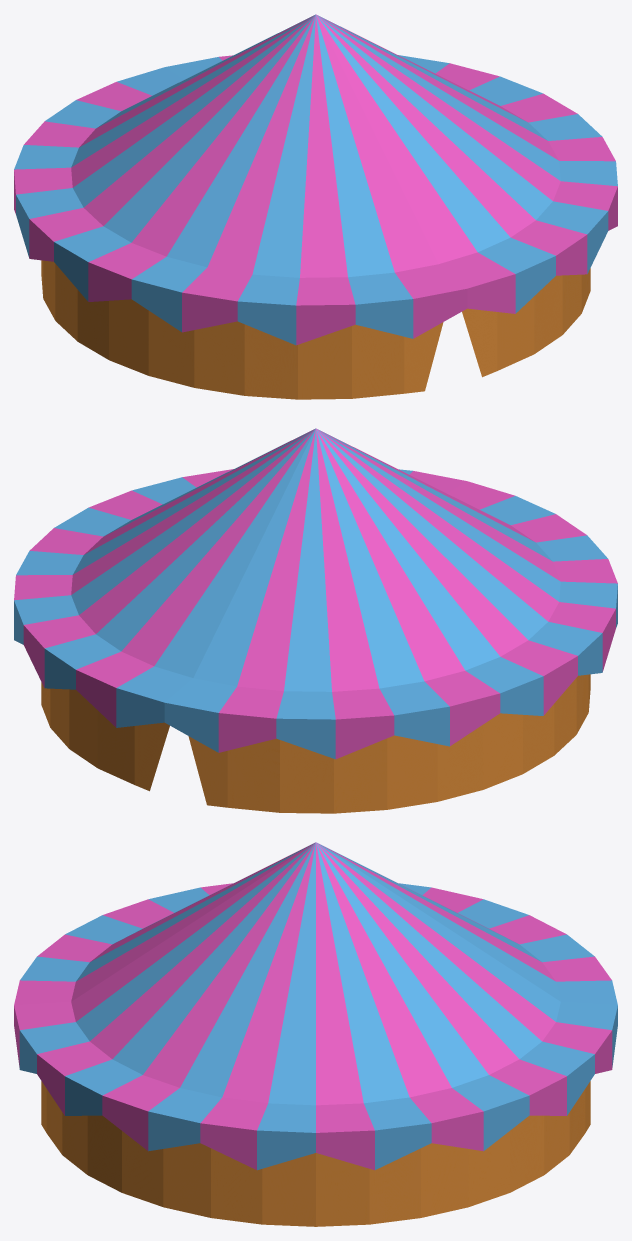
The model's file is giant circus tent.fbx.
3 views of the same model, one above another, from view 1: azimuth 30°, elevation 25°; view 2: azimuth 150°, elevation 25°; view 3: azimuth 270°, elevation 25° (orthographic).
Parts seen in each view (by area): view 1: giant circus tent roof, giant circus tent base-inside, giant circus tent base-outside; view 2: giant circus tent roof, giant circus tent base-inside, giant circus tent base-outside; view 3: giant circus tent roof, giant circus tent base-inside, giant circus tent base-outside.
Part boxes in pixels (x1,y1,x2,y2): giant circus tent roof: (14, 14, 617, 345); giant circus tent base-inside: (41, 260, 590, 399); giant circus tent base-outside: (41, 261, 590, 399); giant circus tent roof: (14, 428, 617, 759); giant circus tent base-inside: (41, 674, 590, 813); giant circus tent base-outside: (42, 674, 590, 813); giant circus tent roof: (14, 842, 617, 1170); giant circus tent base-inside: (41, 1081, 590, 1226); giant circus tent base-outside: (41, 1082, 590, 1226).
Size of the model in its own units: 5500 by 2700 by 5500.
